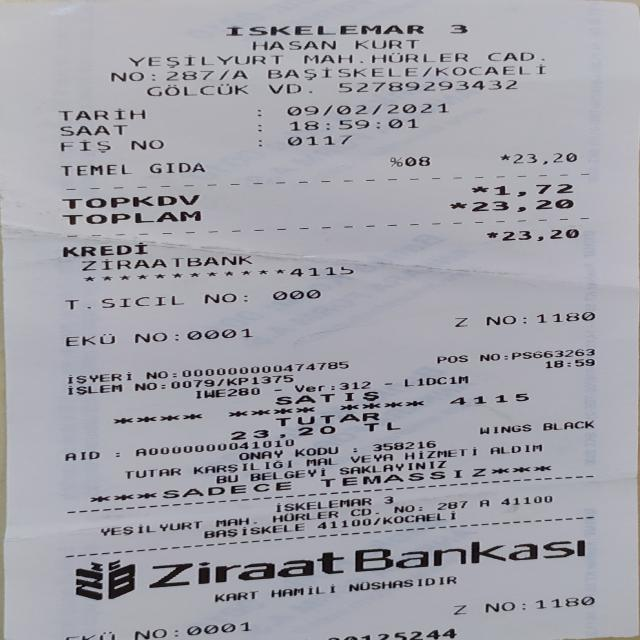text: (351, 537, 596, 571), (141, 550, 341, 590), (323, 465, 484, 486), (78, 254, 253, 272), (134, 438, 300, 455), (177, 360, 355, 375), (335, 79, 517, 92), (162, 482, 295, 498), (223, 25, 422, 35), (128, 54, 282, 66), (302, 52, 466, 63), (266, 67, 416, 79), (200, 522, 304, 539), (286, 103, 446, 114), (345, 575, 455, 590), (335, 459, 452, 473), (288, 118, 417, 130), (335, 628, 461, 640), (433, 64, 546, 77), (146, 82, 248, 96), (61, 212, 201, 222), (271, 498, 371, 511), (470, 199, 574, 211), (184, 619, 254, 636), (448, 392, 536, 405), (61, 197, 202, 205), (57, 108, 144, 120), (284, 132, 353, 147), (56, 243, 149, 254), (248, 467, 326, 480), (251, 39, 335, 51), (514, 348, 598, 360), (97, 295, 185, 306), (510, 151, 578, 165), (500, 229, 579, 241), (266, 584, 338, 597), (59, 163, 130, 176), (58, 123, 127, 136), (382, 512, 456, 524), (270, 394, 380, 402), (493, 184, 572, 195), (535, 595, 597, 609), (57, 139, 113, 153), (183, 328, 252, 339), (146, 161, 204, 174), (471, 422, 533, 434), (61, 383, 123, 395), (58, 333, 115, 346), (399, 376, 473, 386), (165, 68, 214, 83), (354, 38, 418, 49), (308, 518, 371, 529), (268, 288, 322, 300), (289, 266, 353, 276), (487, 49, 535, 62), (485, 444, 546, 454), (545, 358, 598, 369), (224, 429, 338, 434), (62, 373, 133, 381), (199, 290, 239, 304), (206, 591, 262, 601), (267, 80, 301, 96), (494, 495, 554, 504), (266, 512, 342, 519), (154, 520, 206, 530), (110, 69, 144, 84), (129, 331, 168, 344), (534, 313, 596, 320), (209, 516, 252, 526), (429, 500, 472, 510), (224, 376, 295, 382), (368, 442, 437, 448), (61, 296, 90, 310), (400, 451, 480, 456), (95, 525, 139, 534), (402, 154, 430, 168), (339, 506, 374, 517), (386, 503, 421, 514), (347, 454, 394, 462), (131, 139, 165, 150), (136, 629, 168, 640), (539, 422, 596, 428), (211, 473, 242, 484), (166, 379, 214, 386), (188, 465, 296, 468), (274, 417, 381, 420), (482, 315, 516, 324), (122, 470, 183, 475), (334, 381, 372, 389), (235, 452, 285, 458), (133, 522, 160, 533), (141, 368, 170, 378), (61, 452, 102, 459), (302, 457, 337, 465), (229, 66, 246, 82), (431, 355, 469, 362), (292, 383, 325, 391), (288, 448, 339, 453), (480, 603, 514, 610), (470, 184, 488, 197), (386, 154, 402, 168), (449, 200, 467, 212), (497, 151, 511, 166), (473, 497, 491, 508), (238, 289, 251, 304), (410, 501, 426, 513), (129, 382, 156, 389), (476, 352, 499, 360), (486, 229, 500, 242), (216, 67, 228, 82), (450, 316, 468, 326), (450, 23, 466, 34), (244, 514, 258, 526), (449, 605, 470, 613), (419, 64, 430, 79), (170, 329, 181, 342), (373, 516, 387, 526), (380, 378, 393, 388), (167, 367, 177, 379), (369, 504, 379, 516), (254, 137, 266, 147), (515, 600, 528, 609), (381, 495, 395, 503), (215, 376, 225, 386), (154, 380, 165, 389), (272, 384, 283, 393), (149, 68, 155, 84), (306, 87, 315, 96), (501, 351, 510, 360), (325, 382, 334, 391), (111, 449, 120, 458), (349, 444, 358, 453), (254, 121, 262, 131), (518, 314, 526, 323), (255, 104, 260, 118), (540, 49, 542, 62)
